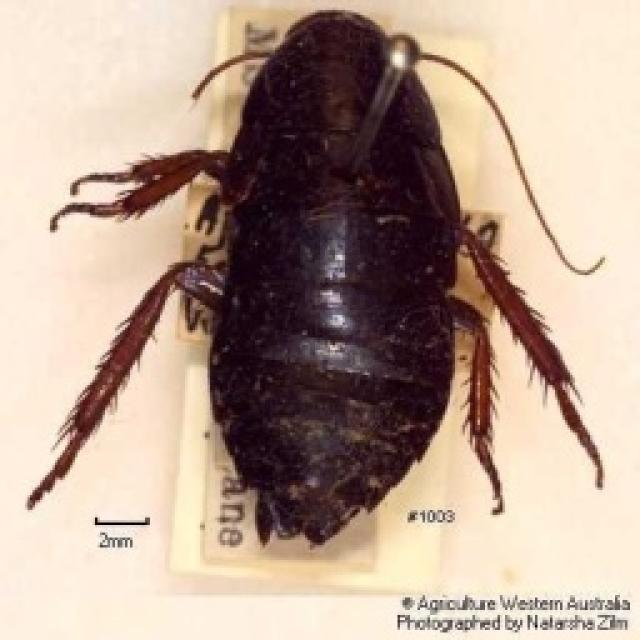cockroach: (24, 8, 610, 550)
